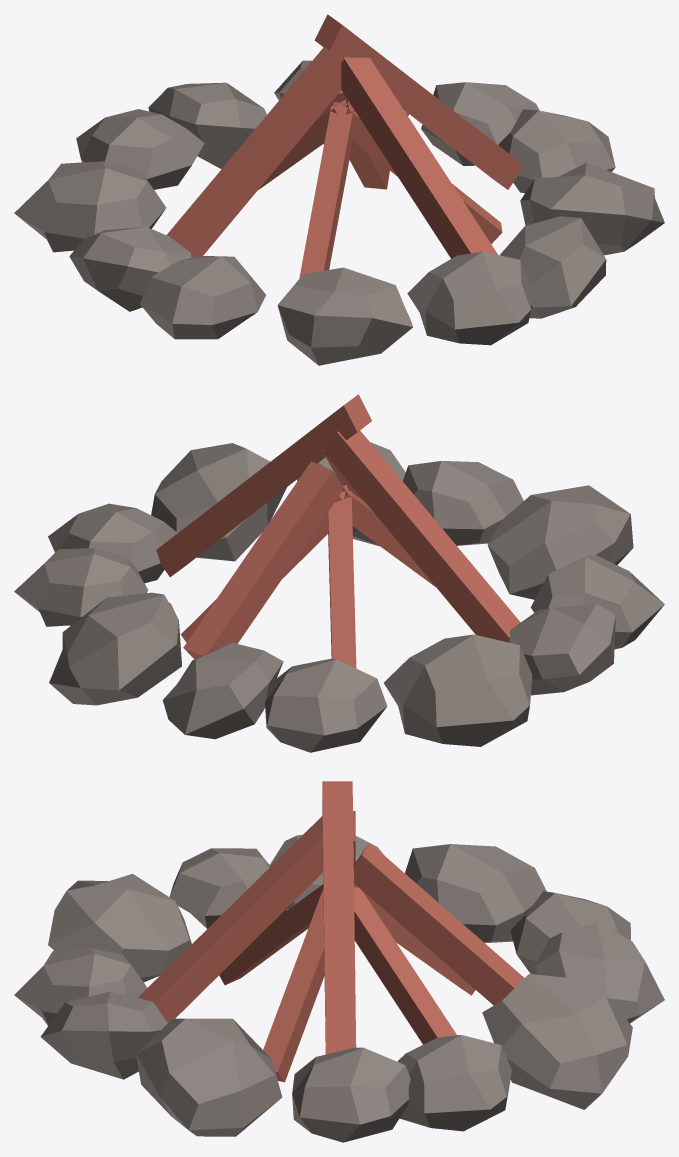
File: [OBJ]Fogueira.fbx
The picture shows the model from 3 angles, top to bottom: view 1: azimuth 30°, elevation 25°; view 2: azimuth 150°, elevation 25°; view 3: azimuth 270°, elevation 25°; orthographic projection. The views are drawn at different scales.
Visible parts, largest first — view 1: [OBJ]Fogueira; view 2: [OBJ]Fogueira; view 3: [OBJ]Fogueira.
Boxes of the visible parts, x1,y1,x2,y2 form: [OBJ]Fogueira: (14,14,664,365); [OBJ]Fogueira: (14,394,664,752); [OBJ]Fogueira: (14,781,664,1142).
Bounding box in the file's own units: 81.72 × 35.73 × 83.38.
